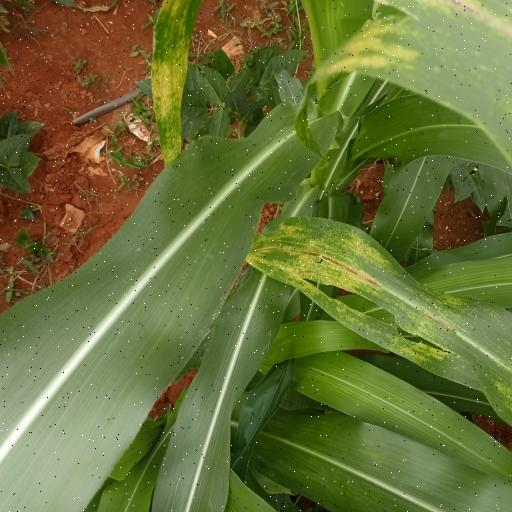Corn_Brown_Spots: (242, 200, 512, 400), (296, 0, 512, 151), (153, 4, 207, 170)
